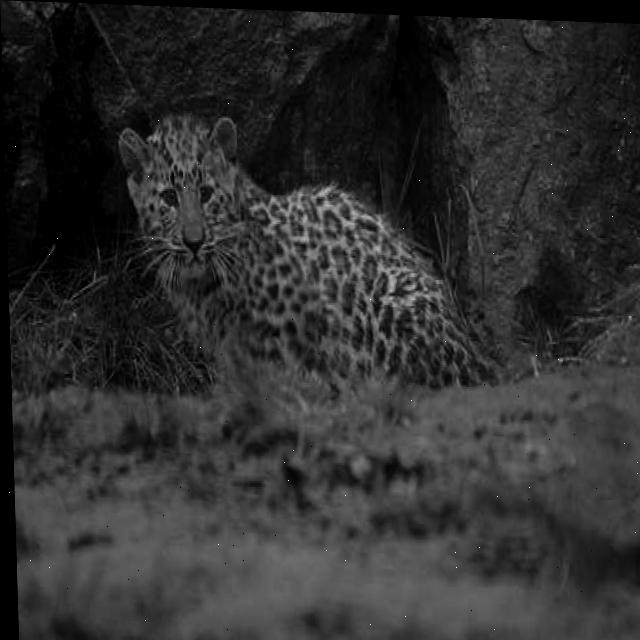Leopard: (116, 106, 502, 402)
